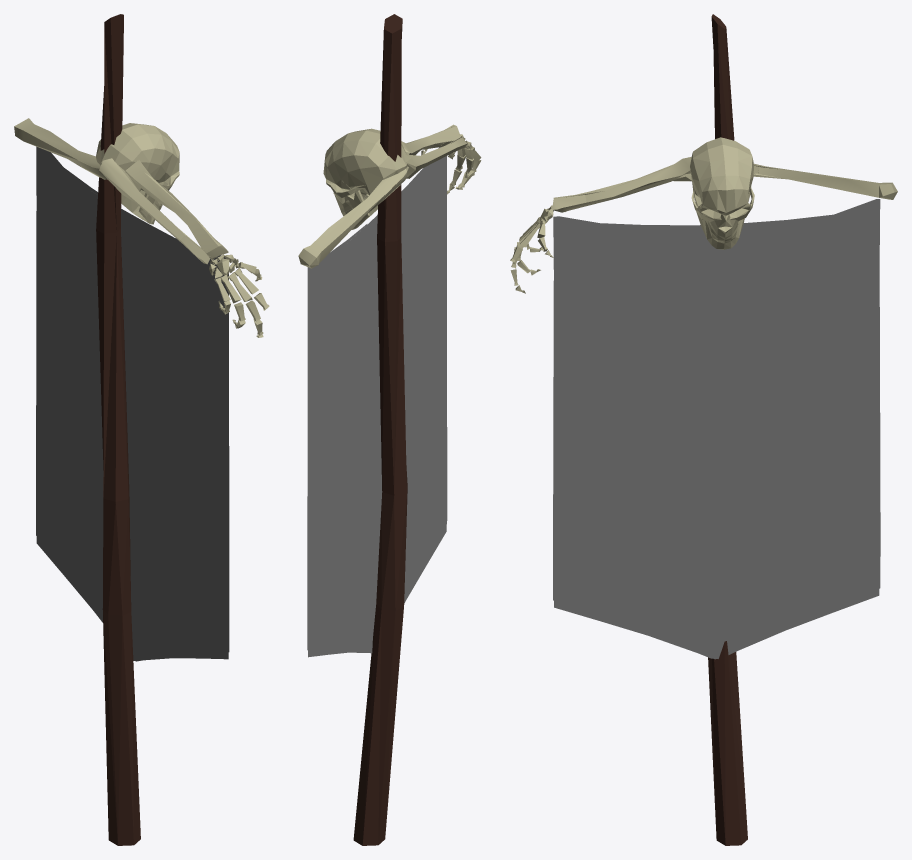
File: flag.glb
3 renders of one model, left to right at view 1: azimuth 30°, elevation 25°; view 2: azimuth 150°, elevation 25°; view 3: azimuth 270°, elevation 25°, orthographic. The views are drawn at different scales.
Visible parts, largest first — view 1: flame.003; view 2: flame.003; view 3: flame.003.
Boxes of the visible parts, x1,y1,x2,y2 form: flame.003: (14, 14, 269, 845); flame.003: (298, 14, 481, 845); flame.003: (510, 14, 897, 845).
Size of the model in its own units: 0.1421 by 1.37 by 0.5883.
